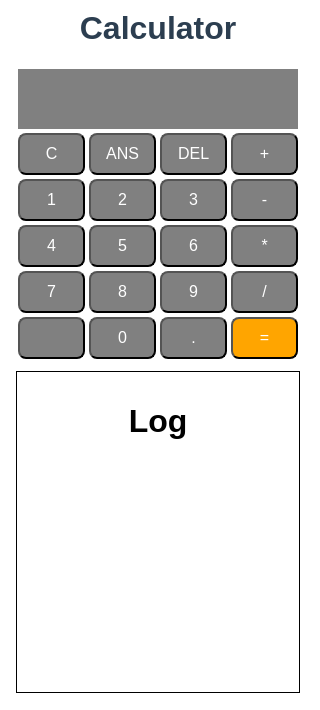
Test: Calculator.vue › display 12 when 1 and 2 are clicked
The image size is (320, 710).
Click the button "1".
click(52, 200)  # box [18,179,85,221]
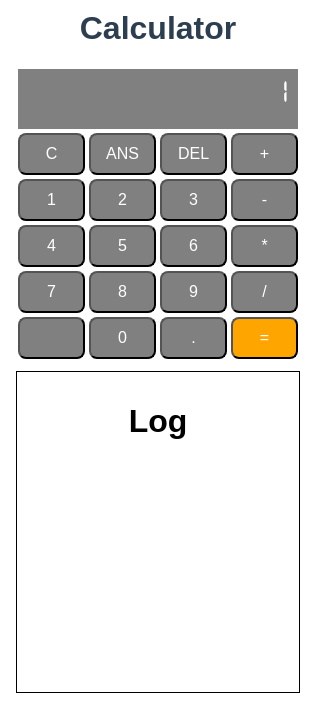
Click the button "2".
click(122, 200)  # box [89,179,156,221]
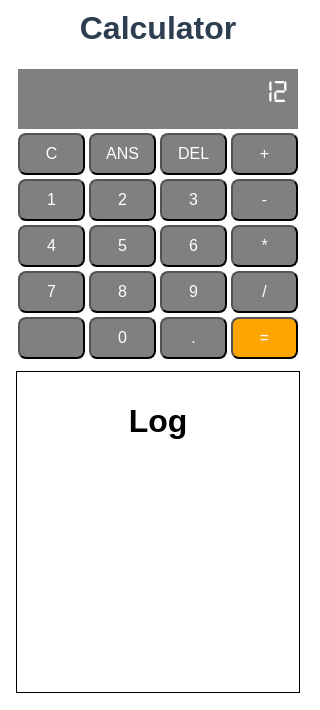
Check: the text "12" is shown, box [18,69,298,129]
